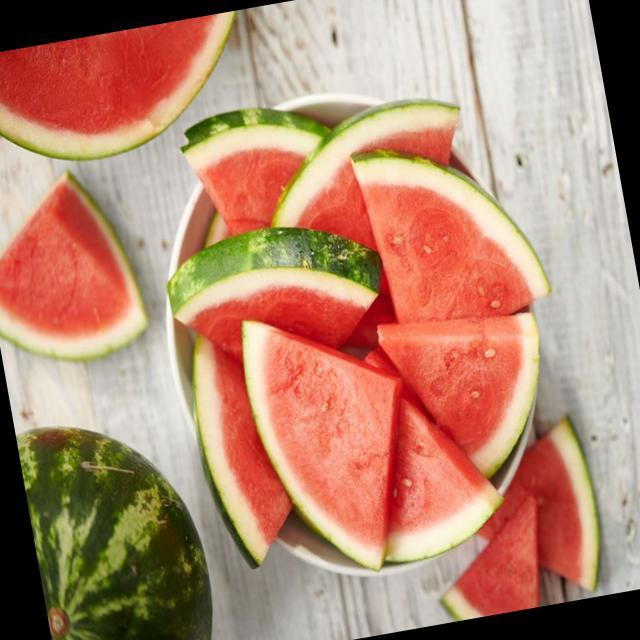WATERMELON: (237, 297, 430, 585), (351, 120, 557, 348), (0, 8, 268, 179), (162, 206, 397, 384), (257, 89, 483, 251), (177, 323, 309, 578), (0, 158, 154, 375), (351, 357, 509, 566), (379, 301, 559, 484), (466, 406, 624, 610), (174, 90, 350, 254), (427, 497, 556, 623)
